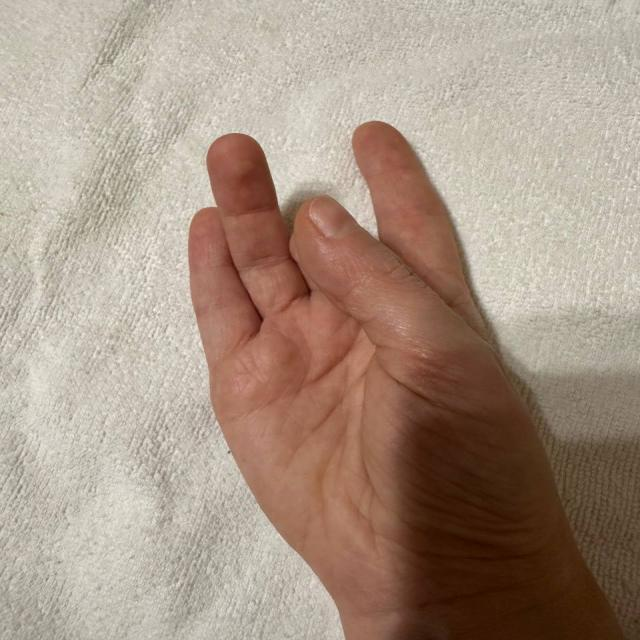r: (142, 115, 594, 547)
